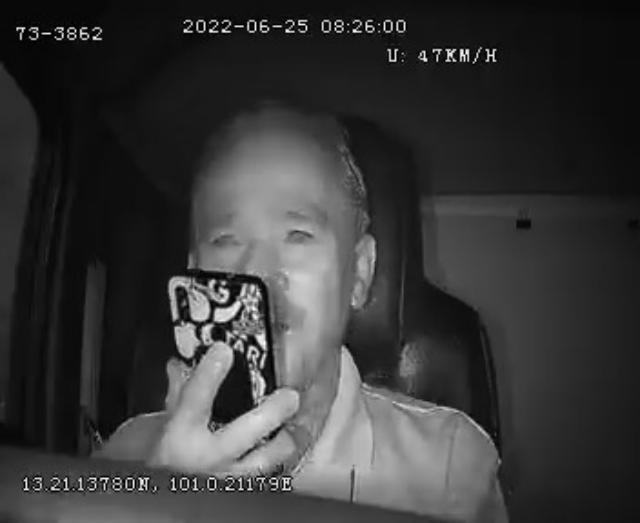PhoneUse: (165, 266, 278, 444)
SafeDriving: (277, 209, 323, 252)
